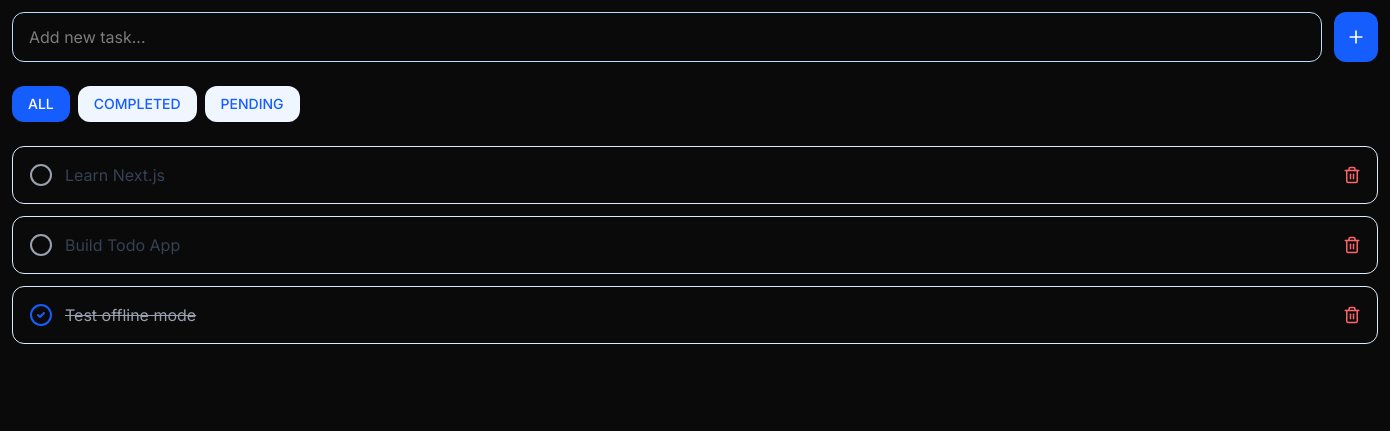
TodoCard › Add Todo › adds todo when input filled and add button clicked
Type "Learn Testing" into the field with placeholder "Add new task...".
click(667, 37); type("Learn Testing")  # box left=12, top=12, right=1322, bottom=62
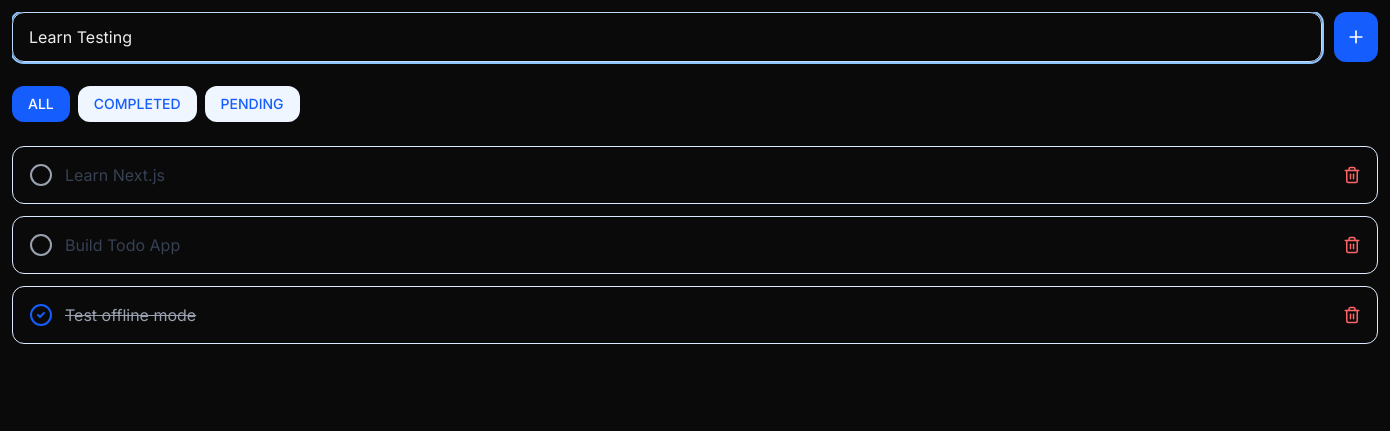
Click the button named "add todo".
click(1356, 37)  # box left=1334, top=12, right=1378, bottom=62
Wait 800 ms
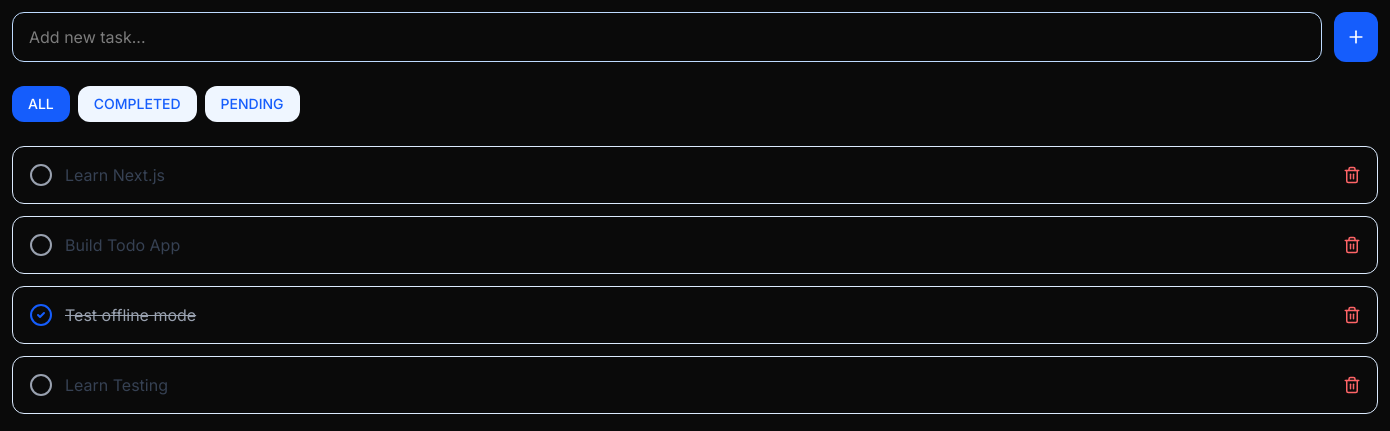
Check: the text "Learn Testing" is shown, box left=65, top=375, right=168, bottom=395
